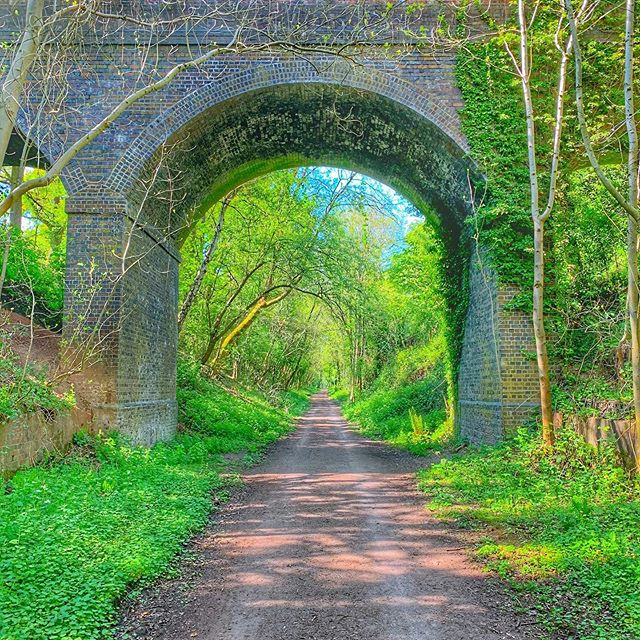grass: (1, 379, 265, 628), (444, 435, 640, 640)
road: (100, 399, 554, 632)
vegetation: (165, 179, 450, 429)
